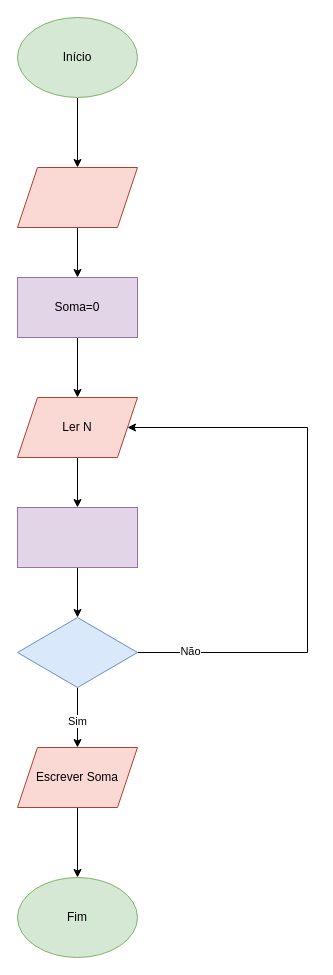
This 333x975 diagram has some shape labels left out. Here are the shapes that lost their labels. From the top down, the centre of each, then its label:
At (x=77, y=197): "Quantos N quer sumar".
At (x=77, y=537): "Soma=Soma+N quantos=quantos - 1".
At (x=77, y=652): "Quantos=0".
